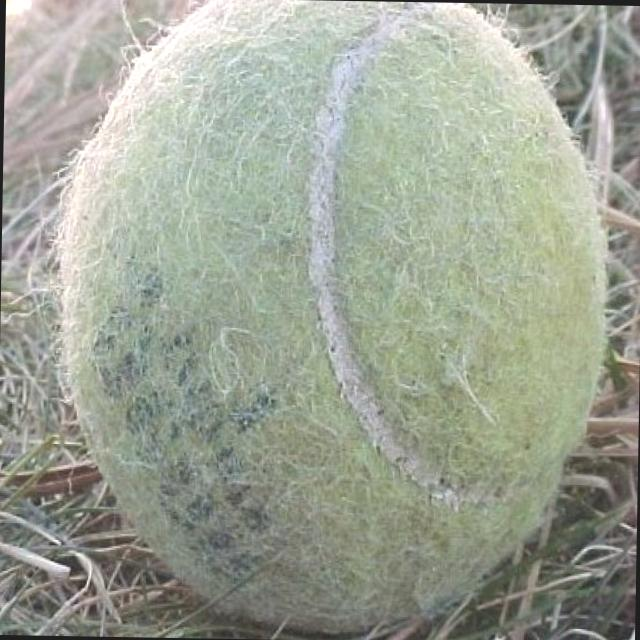Tennis Ball: (56, 0, 610, 640)
